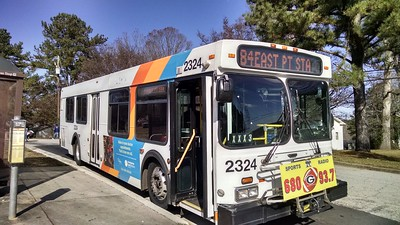bus: (58, 38, 348, 225)
